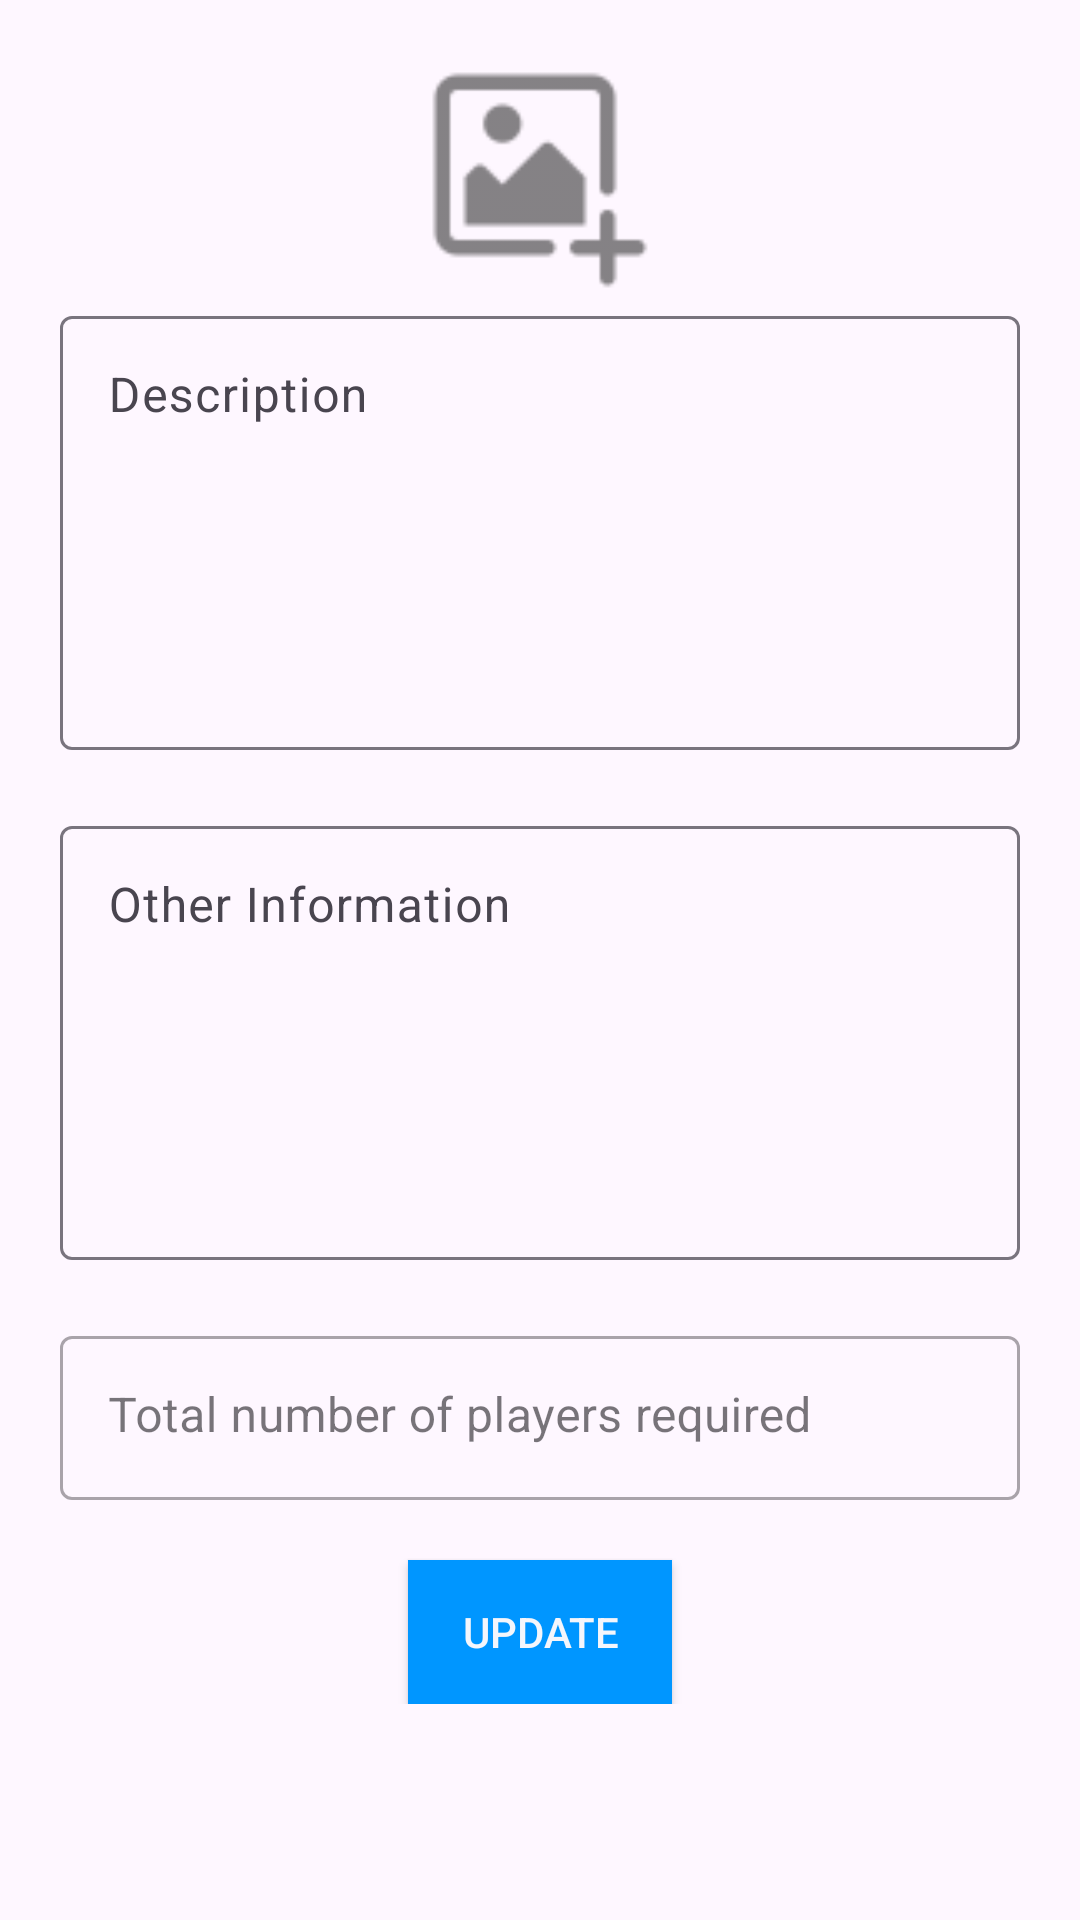

Icons on this 1080 × 1920 Android screen, each with its box as bbox(x1, y1, x2, y2):
add: bbox(433, 73, 647, 287)
